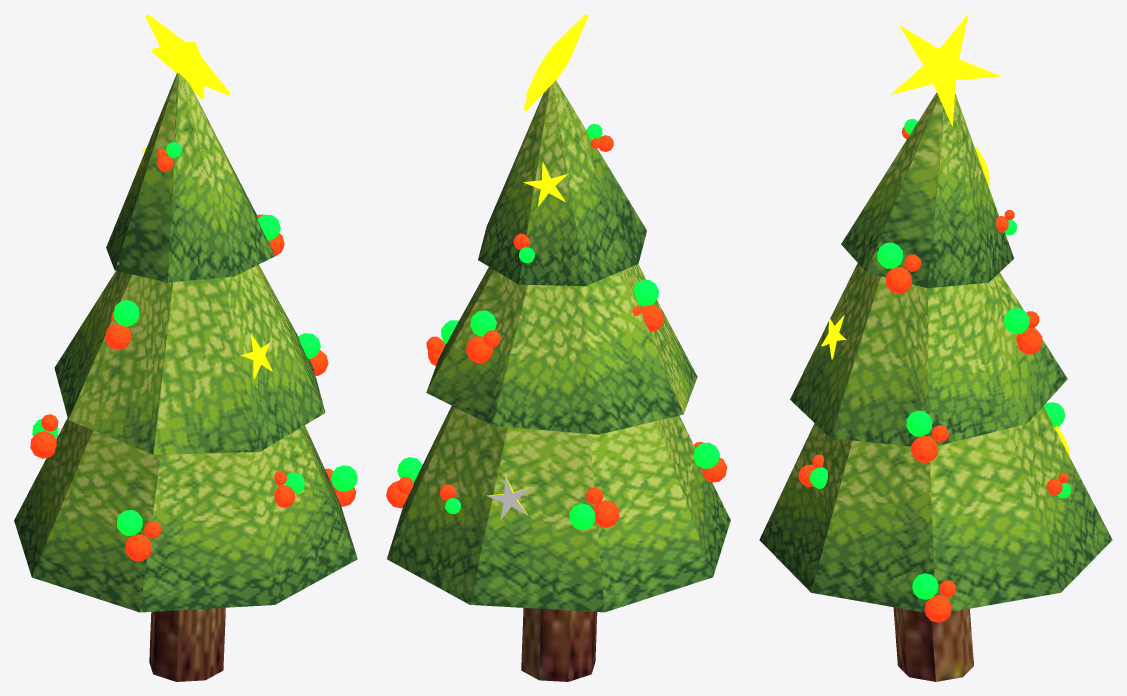
File: ChristmasTree .glb
The picture shows the model from 3 angles, left to right: view 1: azimuth 30°, elevation 25°; view 2: azimuth 150°, elevation 25°; view 3: azimuth 270°, elevation 25°; orthographic projection.
Visible parts, largest first — view 1: Cylinder.002, Cylinder.001, Cylinder, Cylinder.003, Cylinder.004, Bulb.004, Bulb.007, Bulb.006, Bulb.005, Bulb.010, Bulb, Bulb.003 (+1 smaller); view 2: Cylinder.002, Cylinder.001, Cylinder, Cylinder.003, Cylinder.004, Bulb.006, Bulb.002, Bulb.007, Bulb.005, Bulb.004, Bulb, Cylinder.005 (+1 smaller); view 3: Cylinder.002, Cylinder.001, Cylinder, Cylinder.003, Cylinder.004, Bulb.005, Bulb, Bulb.003, Bulb.002, Bulb.010.
Part boxes in pixels (x1,y1,x2,y2): Cylinder.002: (14,418,357,612); Cylinder.001: (54,264,325,454); Cylinder: (106,73,274,282); Cylinder.003: (149,607,225,681); Cylinder.004: (145,14,229,99); Bulb.004: (117,510,160,561); Bulb.007: (105,300,139,350); Bulb.006: (30,414,58,458); Bulb.005: (325,465,357,506); Bulb.010: (274,471,304,507); Bulb: (298,333,328,375); Bulb.003: (257,214,284,256); Cylinder.002: (387,406,730,612); Cylinder.001: (426,264,697,434); Cylinder: (478,80,646,286); Cylinder.003: (521,608,597,681); Cylinder.004: (523,14,588,110); Bulb.006: (569,487,619,530); Bulb.002: (466,310,500,363); Bulb.007: (632,279,663,331); Bulb.005: (386,457,422,508); Bulb.004: (693,442,727,482); Bulb: (426,320,458,366); Cylinder.005: (523,161,568,206); Cylinder.002: (759,406,1112,612); Cylinder.001: (790,263,1067,446); Cylinder: (841,92,1014,288); Cylinder.003: (893,607,973,681); Cylinder.004: (890,14,1000,126); Bulb.005: (912,573,956,622); Bulb: (906,410,948,462); Bulb.003: (877,242,920,293); Bulb.002: (1004,308,1042,354); Bulb.010: (798,454,827,488).
Size of the model in its own units: 2.33 by 4.44 by 2.22.
4 materials, 1 textured.
